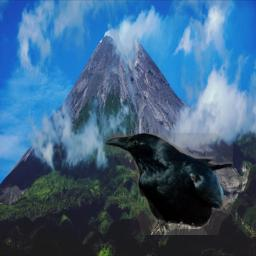Crow: (105, 133, 233, 235)
